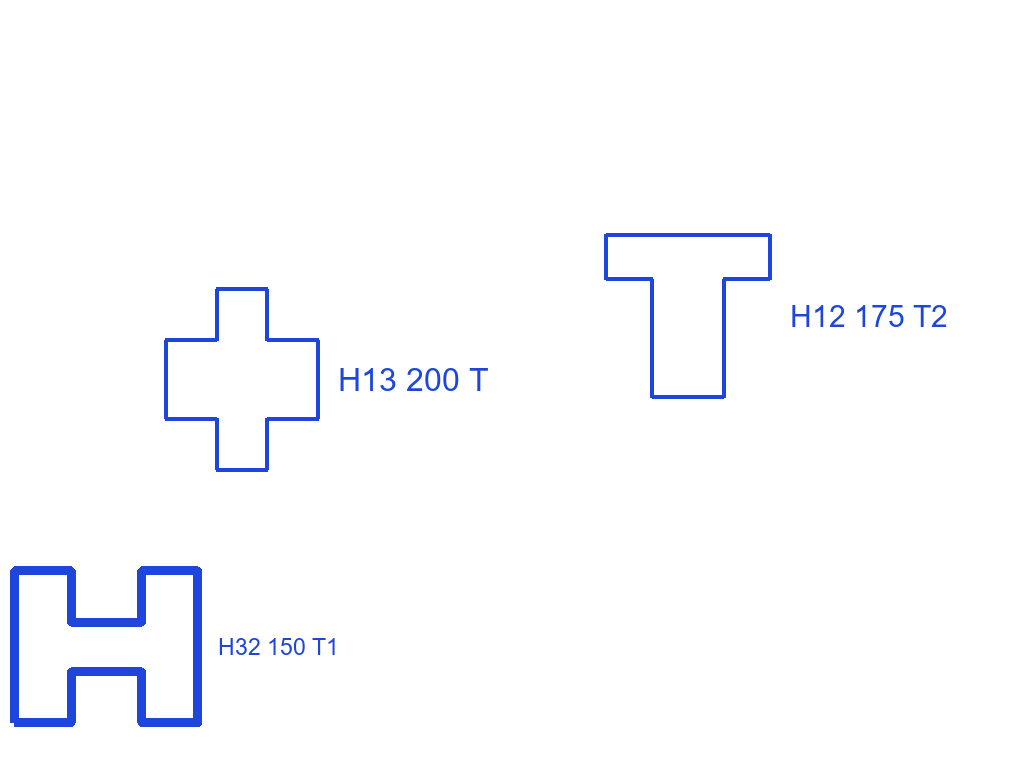shape: (8, 564, 204, 729), (162, 286, 322, 473), (603, 230, 774, 402)
text: (788, 303, 950, 329), (336, 366, 491, 393), (216, 636, 341, 657)
